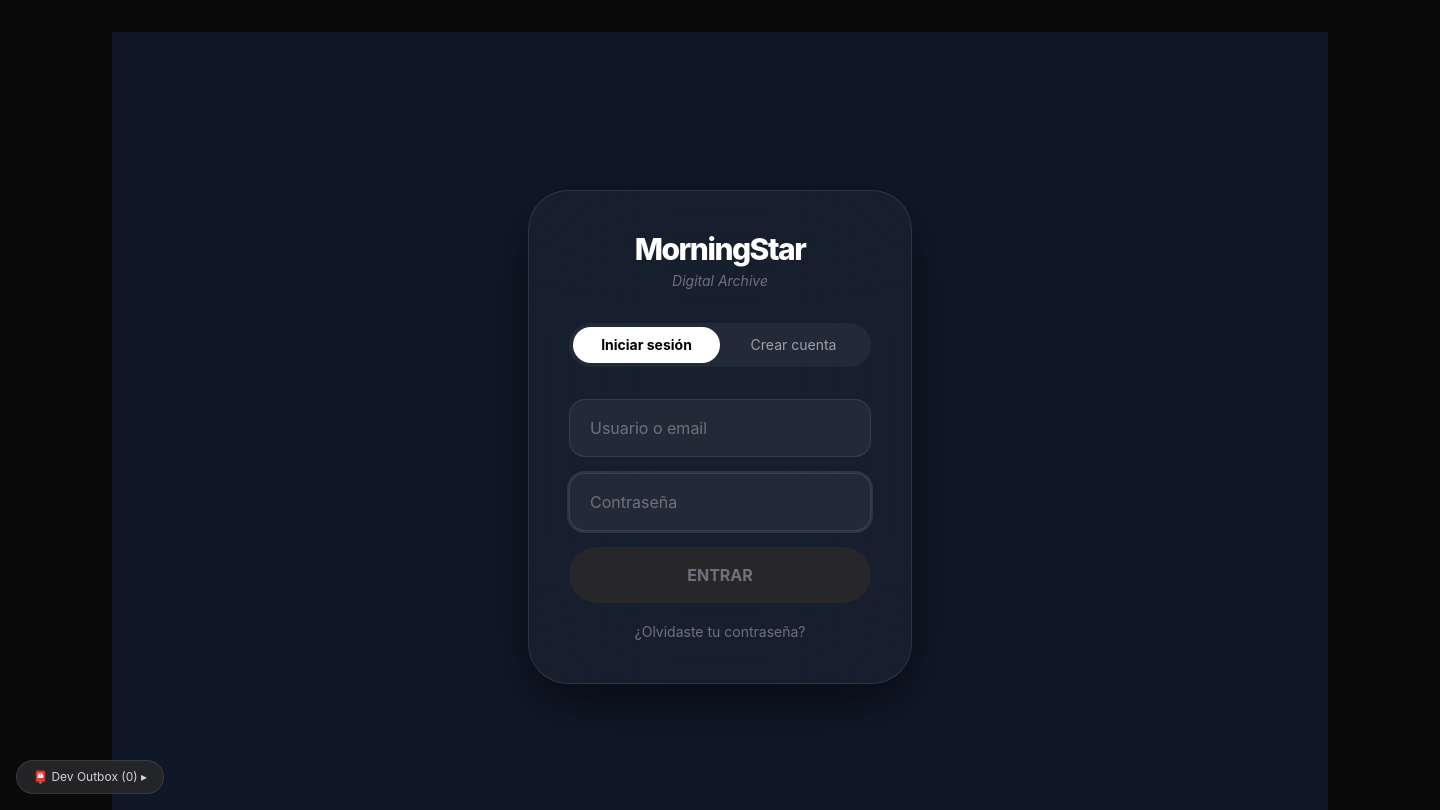
Scenario: Autenticación web (integración real) › credenciales inválidas: error inline, sin alert
Expected: the element named "modo de acceso" is shown, [569, 323, 871, 367]
In the field with placeholder "Usuario o email": (720, 428) [569, 399, 871, 457], type "usuario-fantasma"
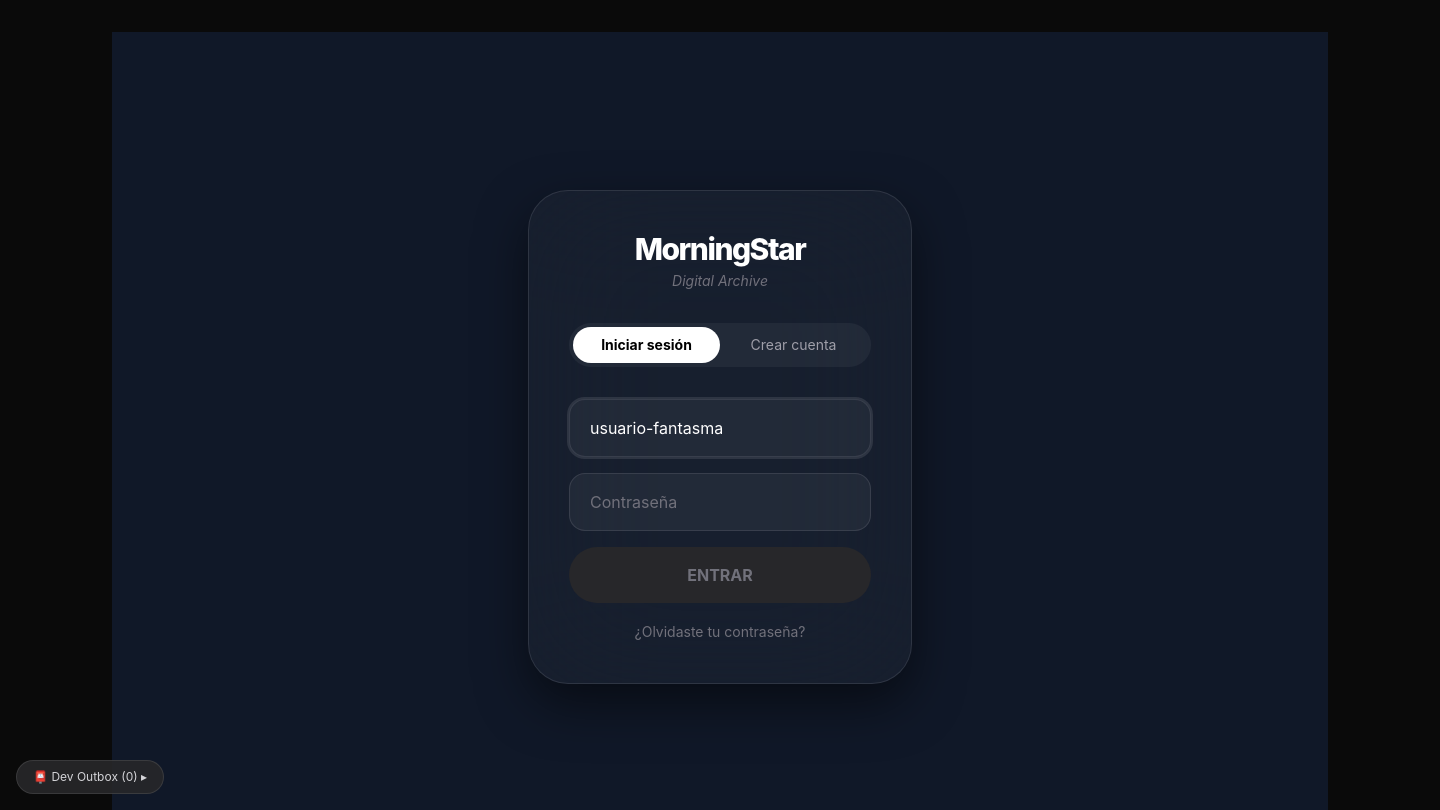
In the password field with placeholder "Contraseña": (720, 502) [569, 473, 871, 531], type "da-igual-8"
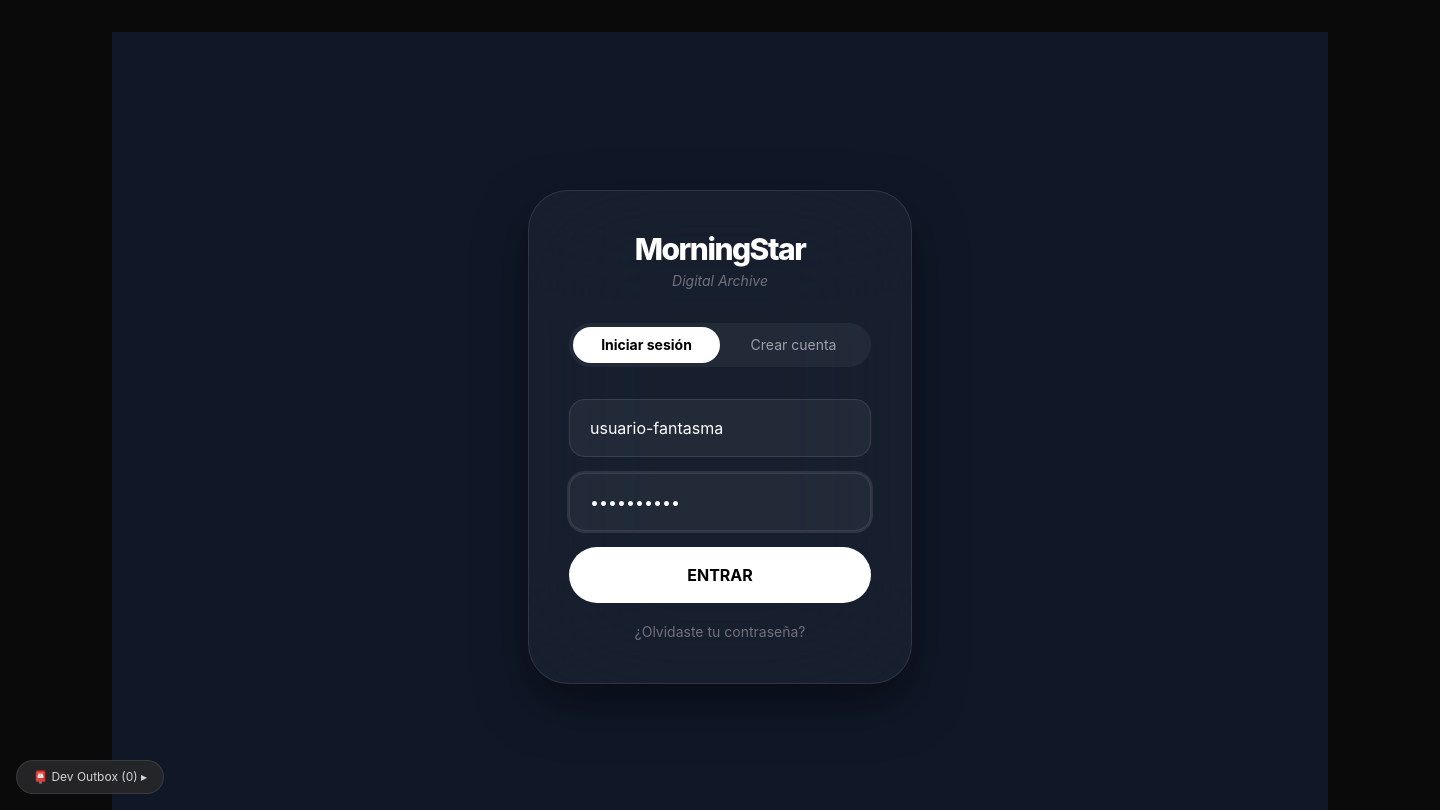
Click the button "ENTRAR": (720, 575) [569, 547, 871, 603]
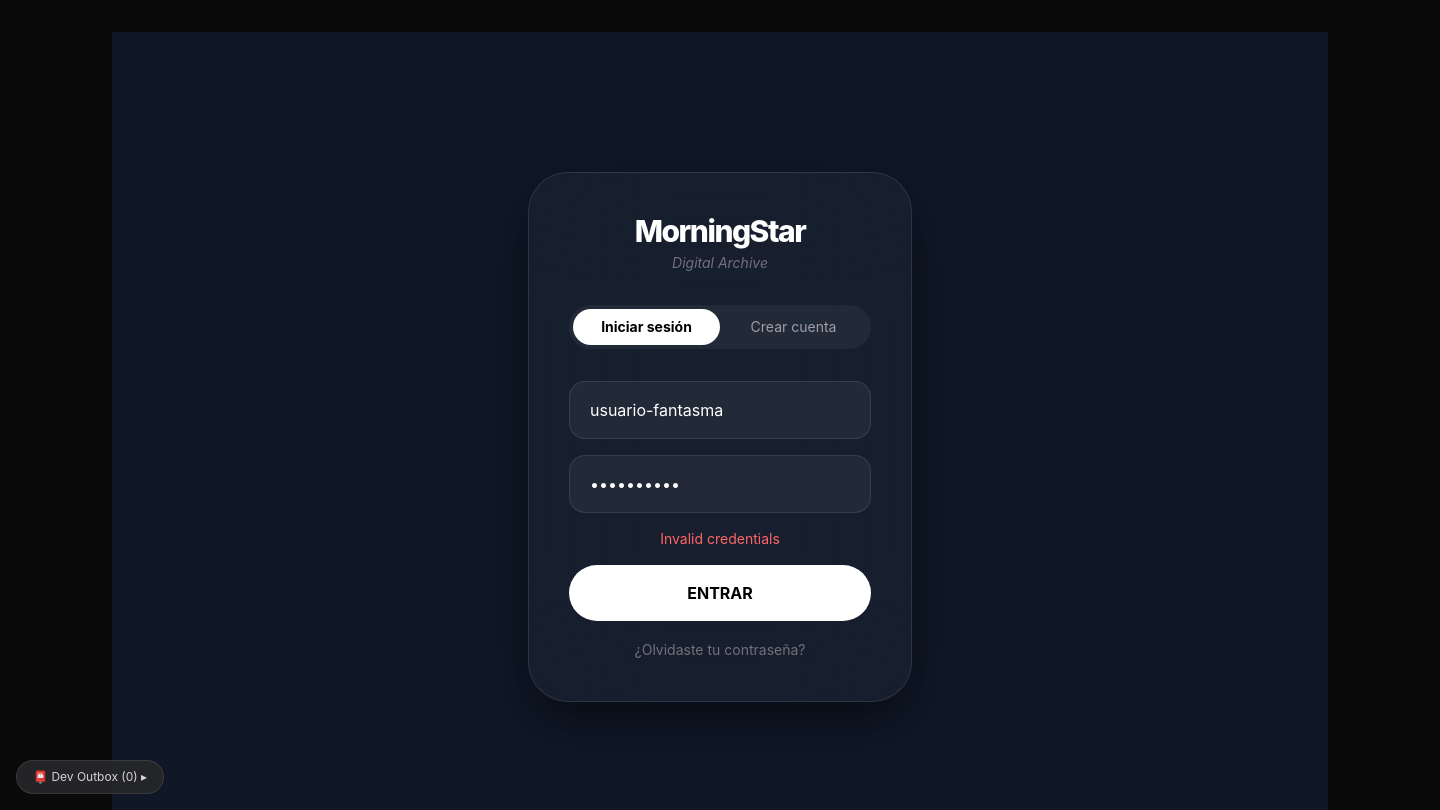
Now the message reads "Invalid credentials", box [660, 530, 780, 547]
